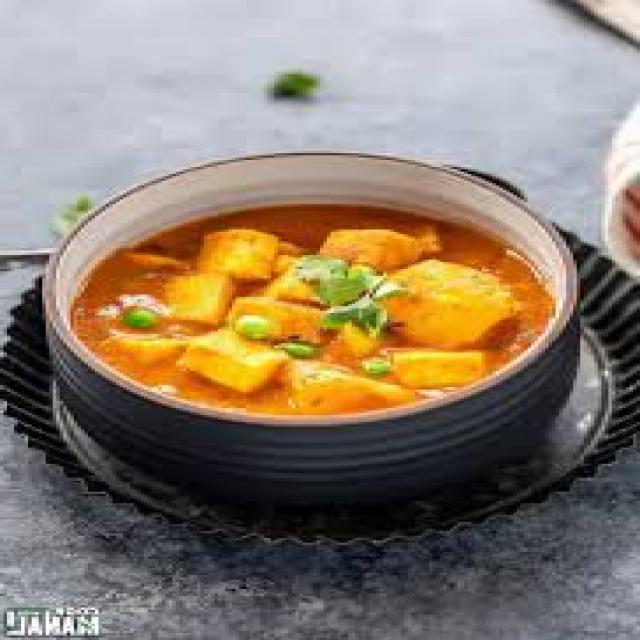Aloo Matar: (86, 206, 522, 408)
